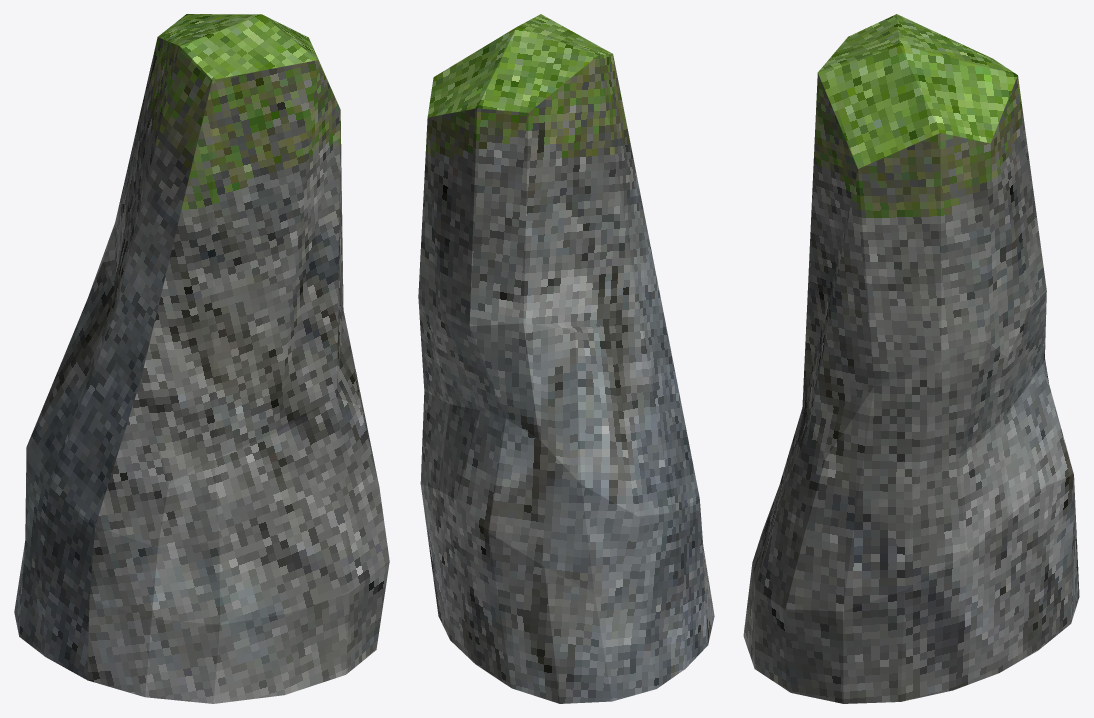
Rendered from big_rock.glb.
The picture shows the model from 3 angles, left to right: view 1: azimuth 30°, elevation 25°; view 2: azimuth 150°, elevation 25°; view 3: azimuth 270°, elevation 25°; orthographic projection. The views are drawn at different scales.
Visible parts, largest first — view 1: Cube; view 2: Cube; view 3: Cube.
Boxes of the visible parts, box(x1,y1,x2,y2) form: Cube: box(14, 14, 389, 703); Cube: box(418, 14, 714, 703); Cube: box(743, 14, 1079, 703).
Size of the model in its own units: 3.05 by 6.12 by 3.02.
Materials: 1 (1 with a texture image).
